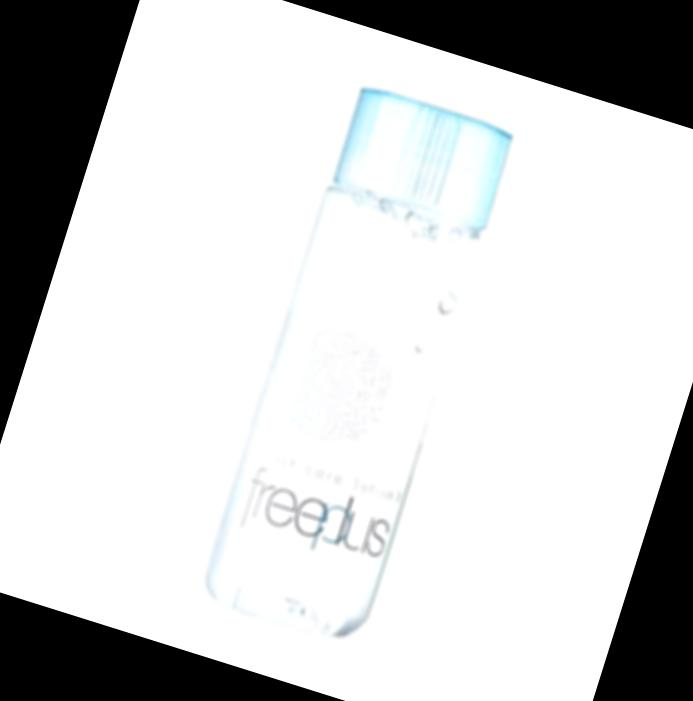cosmetic: (200, 89, 520, 651)
